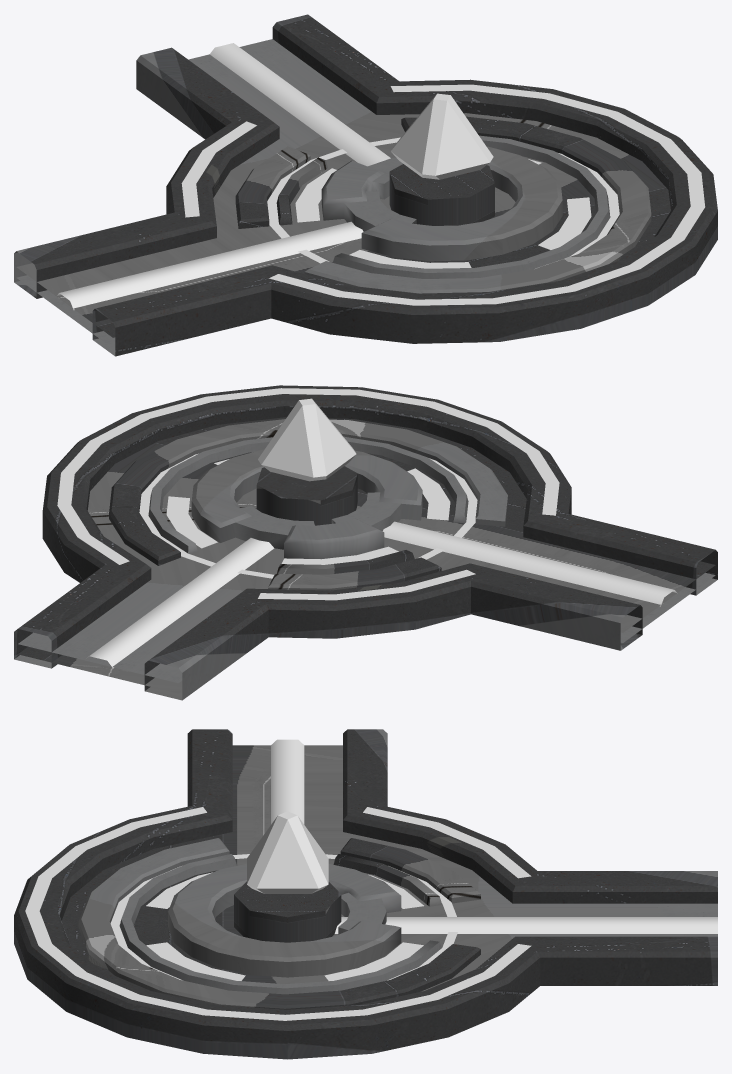
File: Connecter_2Line.fbx
3 renders of one model, top to bottom at view 1: azimuth 30°, elevation 25°; view 2: azimuth 150°, elevation 25°; view 3: azimuth 270°, elevation 25°, orthographic. The views are drawn at different scales.
Visible parts, largest first — view 1: Connecter_2L, Connecter_2L_CainLight, Line055, Pyramid005; view 2: Connecter_2L, Connecter_2L_CainLight, Line055, Pyramid005; view 3: Connecter_2L, Connecter_2L_CainLight, Line055, Pyramid005.
Part boxes in pixels (x1=…): Connecter_2L: x1=14, y1=14, x2=717, y2=356; Connecter_2L_CainLight: x1=181, y1=84, x2=705, y2=305; Line055: x1=56, y1=43, x2=390, y2=309; Pyramid005: x1=390, y1=93, x2=493, y2=179; Connecter_2L: x1=14, y1=385, x2=717, y2=700; Connecter_2L_CainLight: x1=57, y1=388, x2=559, y2=600; Line055: x1=86, y1=521, x2=677, y2=668; Pyramid005: x1=258, y1=398, x2=356, y2=481; Connecter_2L: x1=14, y1=729, x2=717, y2=1059; Connecter_2L_CainLight: x1=25, y1=807, x2=531, y2=1020; Line055: x1=271, y1=739, x2=717, y2=933; Pyramid005: x1=247, y1=811, x2=328, y2=893.
Bounding box in the file's own units: 78.53 × 15.81 × 78.53.
